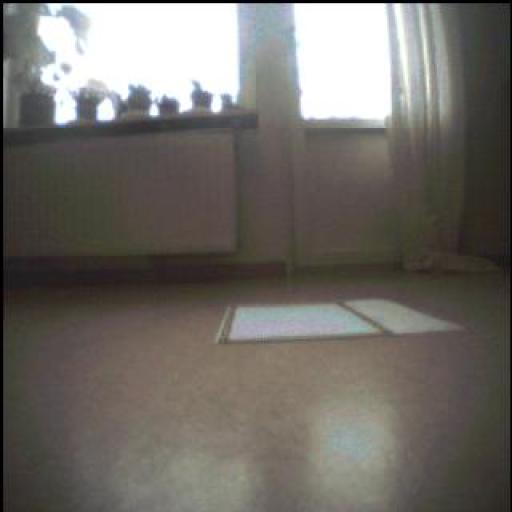Pad: (216, 298, 466, 347)
